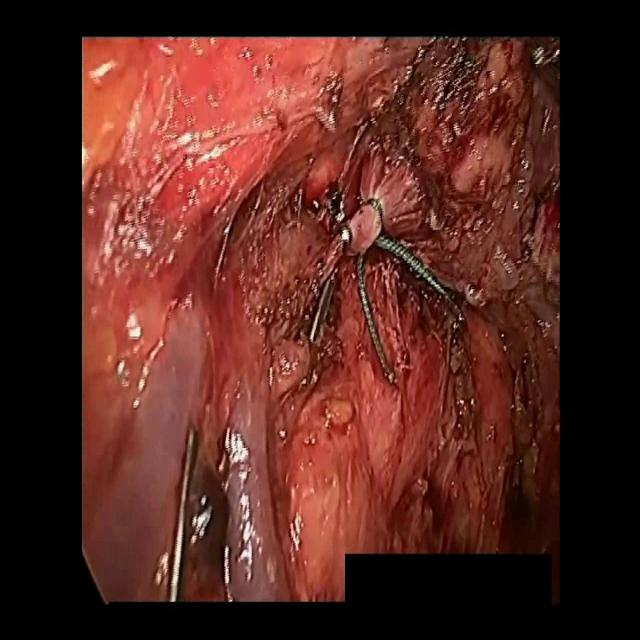surgical-area: (82, 36, 560, 604)
